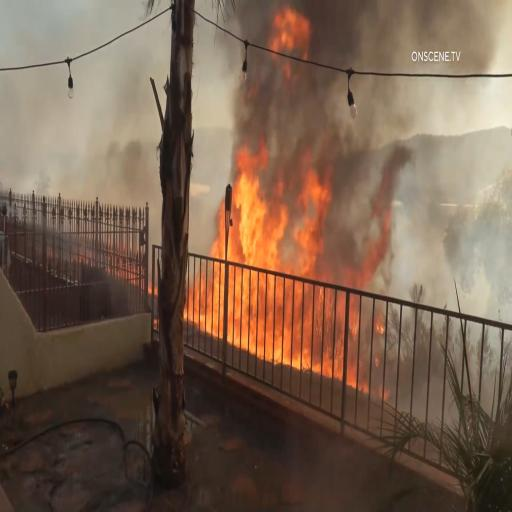fire: (287, 163, 356, 384), (236, 158, 284, 359), (276, 10, 302, 68)
smoke: (361, 86, 428, 178), (257, 81, 344, 146), (87, 126, 149, 204), (312, 17, 410, 63)
